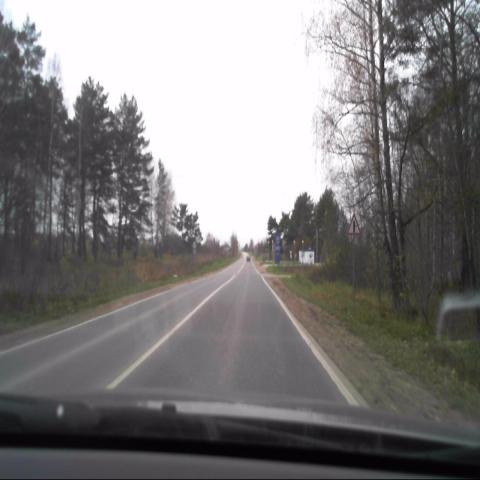2_3_2: (346, 215, 360, 236)
